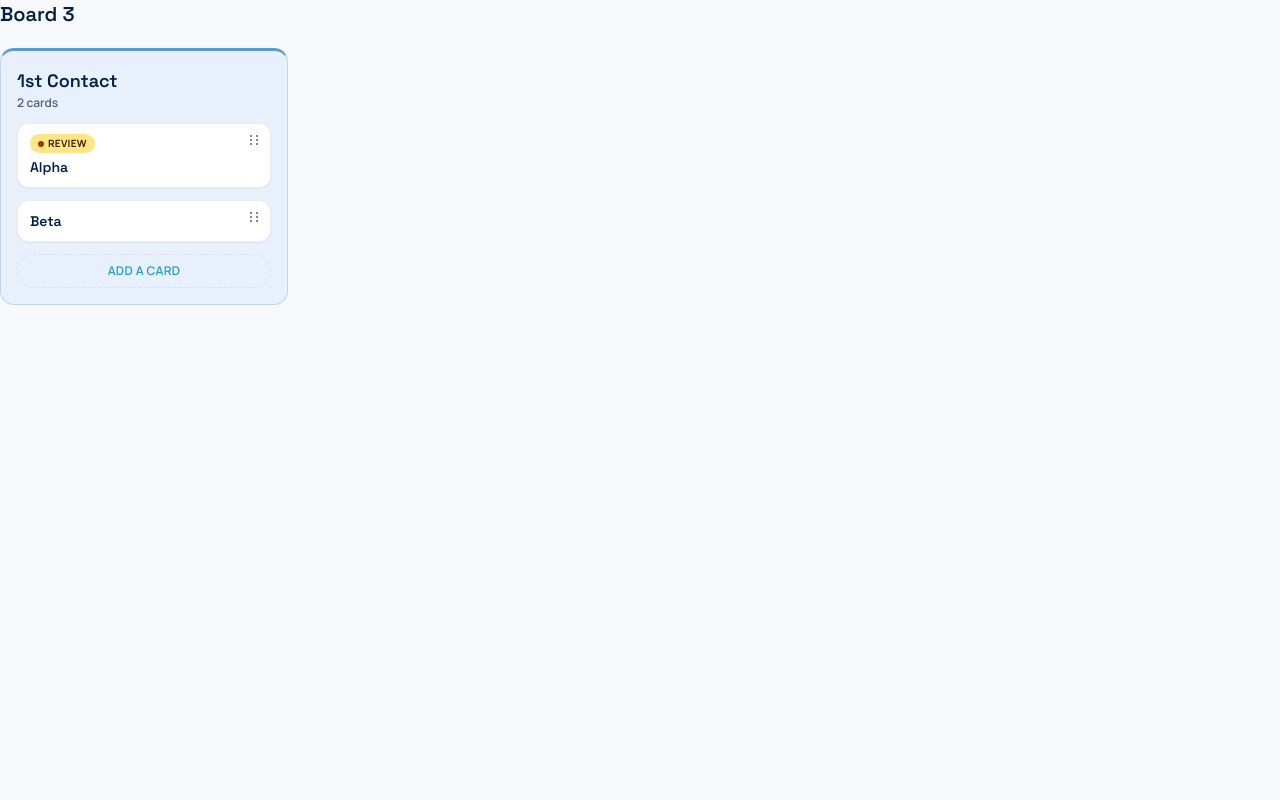
it: central card reviews: markers on the cards and a dialog per obligation › shows the caller's own pending status and how many of the required reviewers already cleared it
Click the button with test id "review-marker-11" at (62,144), box [30,134,95,153]
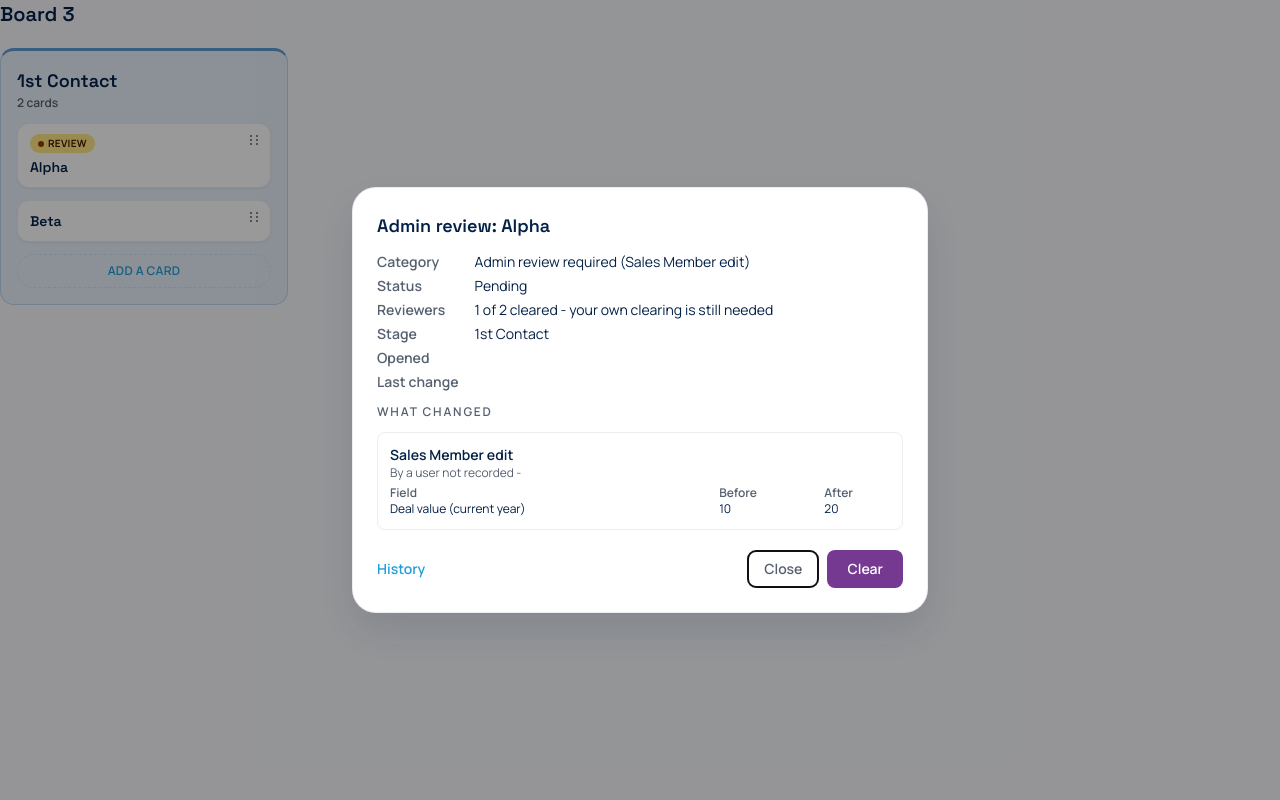
Expected: the text with test id "review-status" reads "Pending", [475,276,527,295]
Expected: the text with test id "review-progress" shows "1 of 2 cleared", [475,300,773,319]
Expected: the button "Clear" is enabled, [828,550,903,588]
